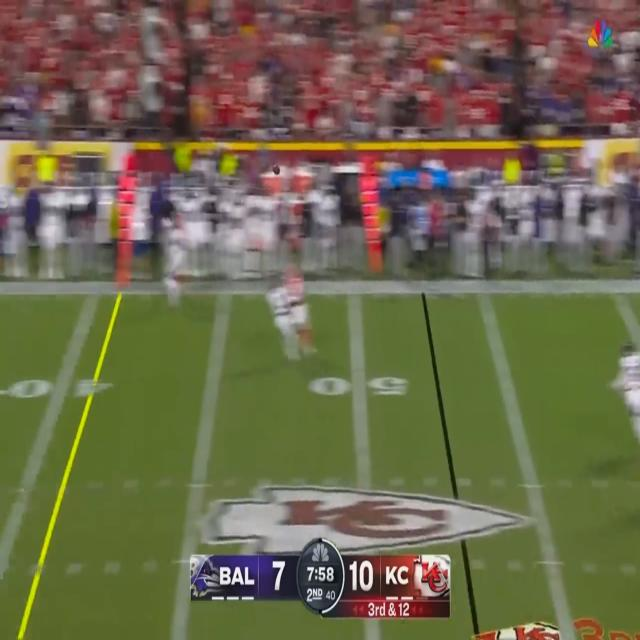Ball: (271, 162, 281, 178)
